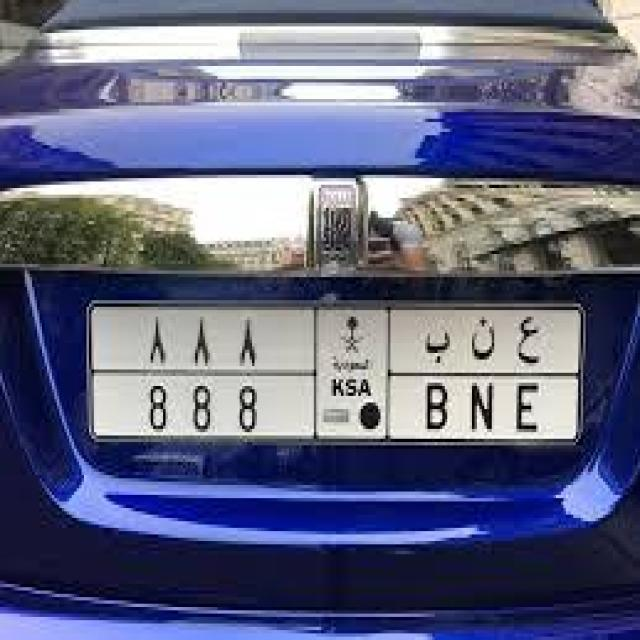license_plate: (90, 307, 587, 442)
